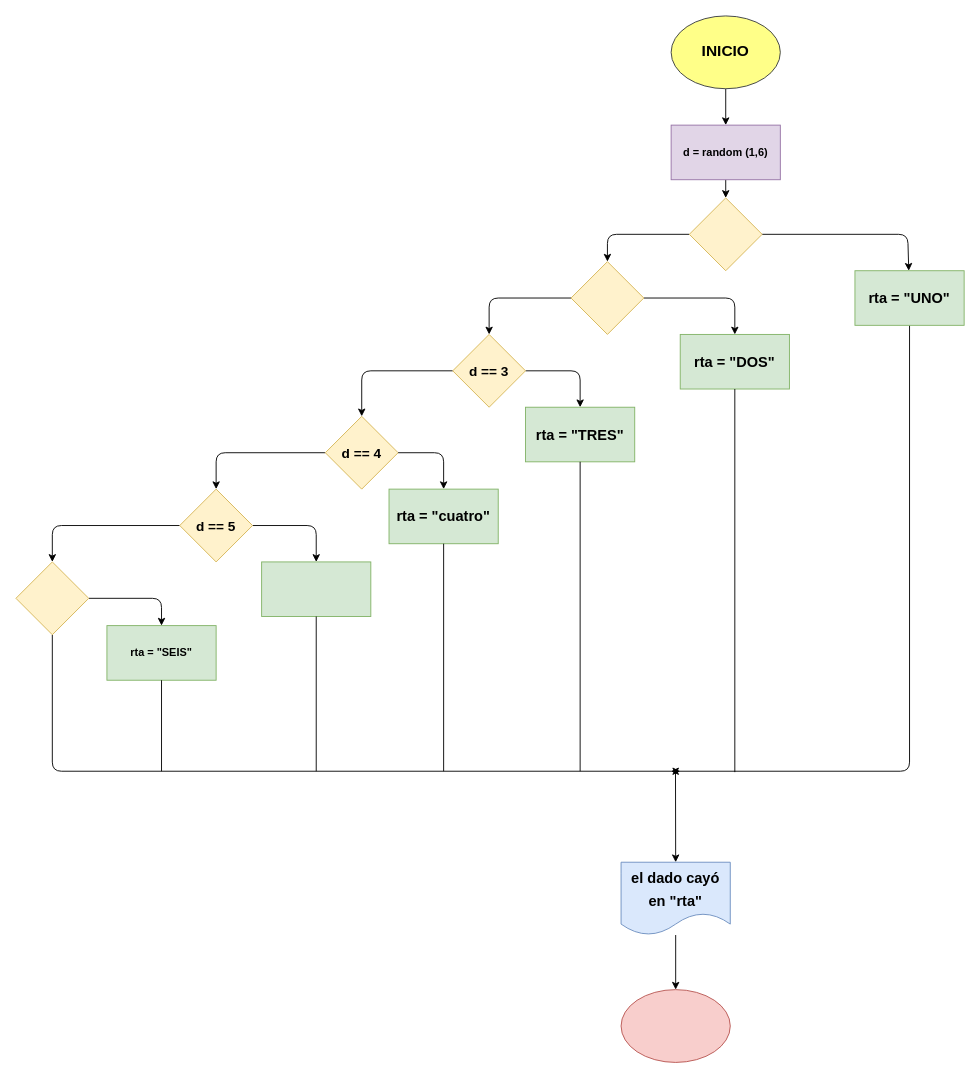
This 980x1078 diagram has some shape labels left out. Each missing label, with the centre of its shape:
d == 1: the point at 725,234
d == 2: the point at 607,297
d == 6: the point at 52,598
FIN: the point at 675,1025
rta = "CINCO": the point at 316,589
